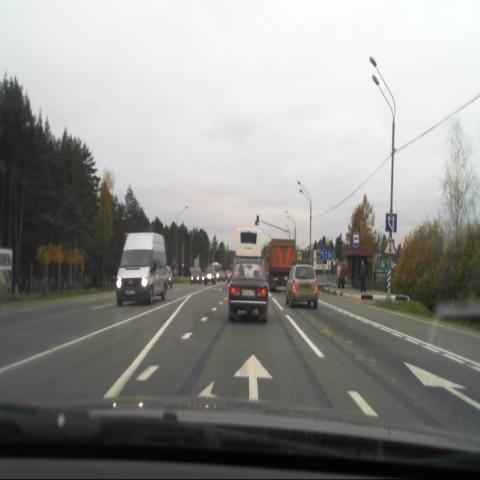1_8: (383, 234, 397, 255)
